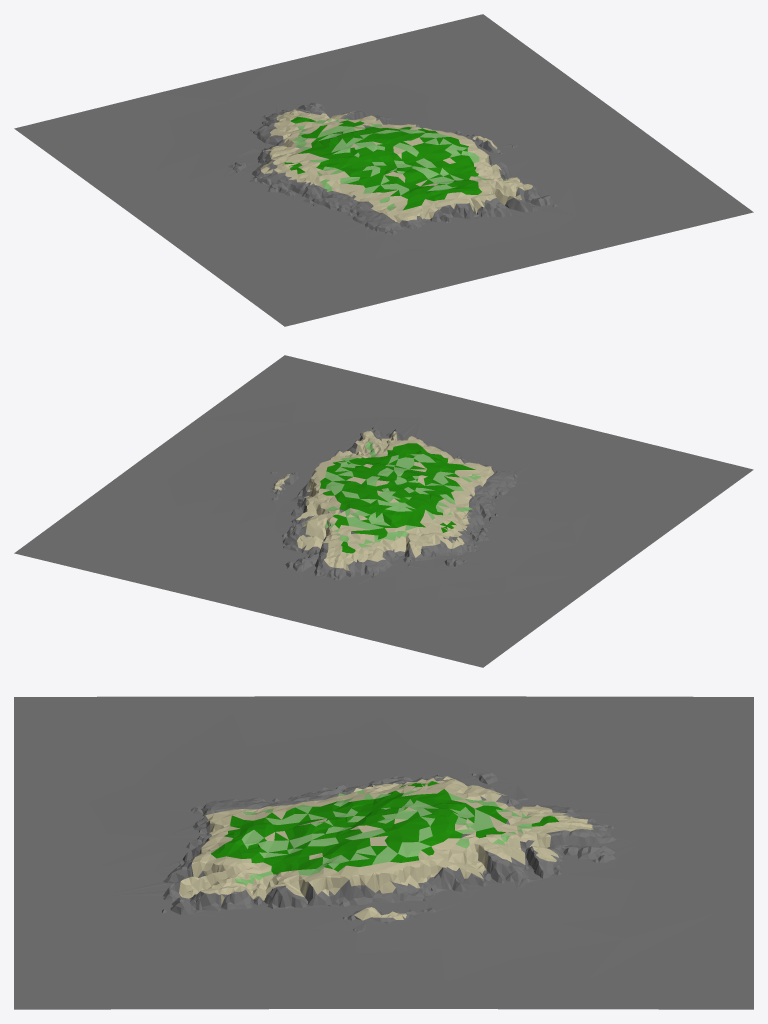
Rendered from st-paul-island.glb.
The picture shows the model from 3 angles, top to bottom: view 1: azimuth 30°, elevation 25°; view 2: azimuth 150°, elevation 25°; view 3: azimuth 270°, elevation 25°; orthographic projection. The views are drawn at different scales.
Parts seen in each view (by area): view 1: Island; view 2: Island; view 3: Island.
Boxes of the visible parts, x1,y1,x2,y2 form: Island: (14, 14, 753, 326); Island: (14, 355, 753, 667); Island: (14, 696, 753, 1009).
Size of what is drawn, in the model's own units: 2 by 0.0985 by 2.
